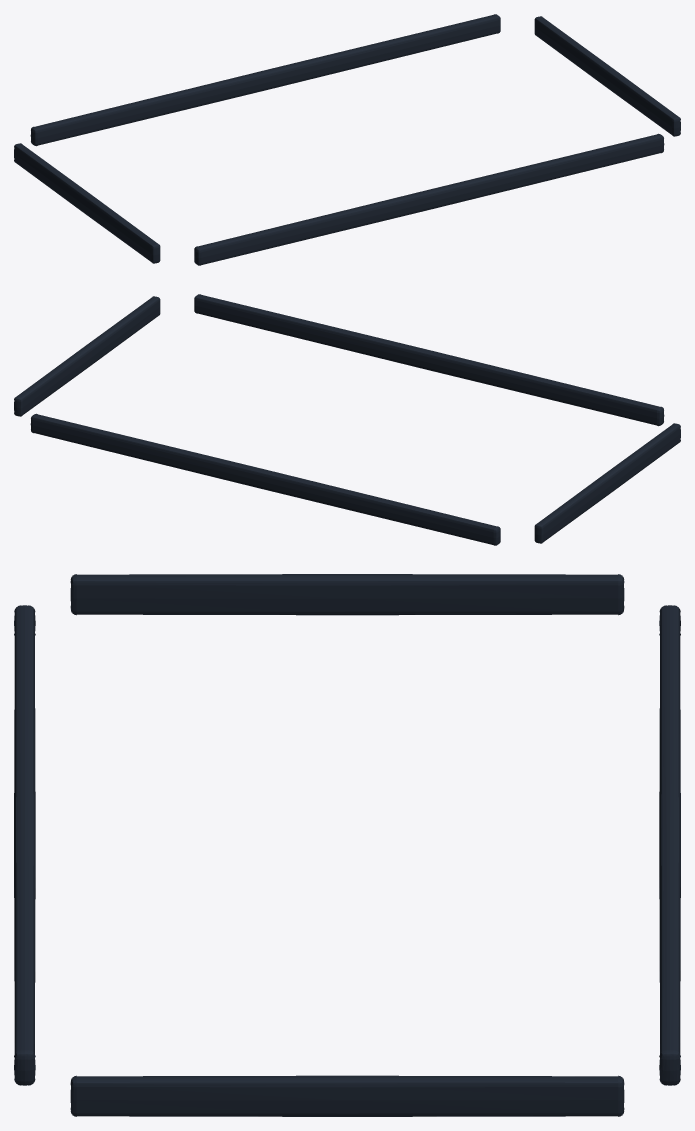
File: 26_PS_Table_SideArmorPanels.fbx
The picture shows the model from 3 angles, top to bottom: view 1: azimuth 30°, elevation 25°; view 2: azimuth 150°, elevation 25°; view 3: azimuth 270°, elevation 25°; orthographic projection. The views are drawn at different scales.
Parts seen in each view (by area): view 1: PS_Table_SideArmorPanels; view 2: PS_Table_SideArmorPanels; view 3: PS_Table_SideArmorPanels.
Boxes of the visible parts, left/top/right/bottom form: PS_Table_SideArmorPanels: left=14, top=14, right=680, bottom=265; PS_Table_SideArmorPanels: left=14, top=294, right=680, bottom=545; PS_Table_SideArmorPanels: left=14, top=574, right=680, bottom=1116.
Size of the model in its own units: 1002 by 34 by 554.
